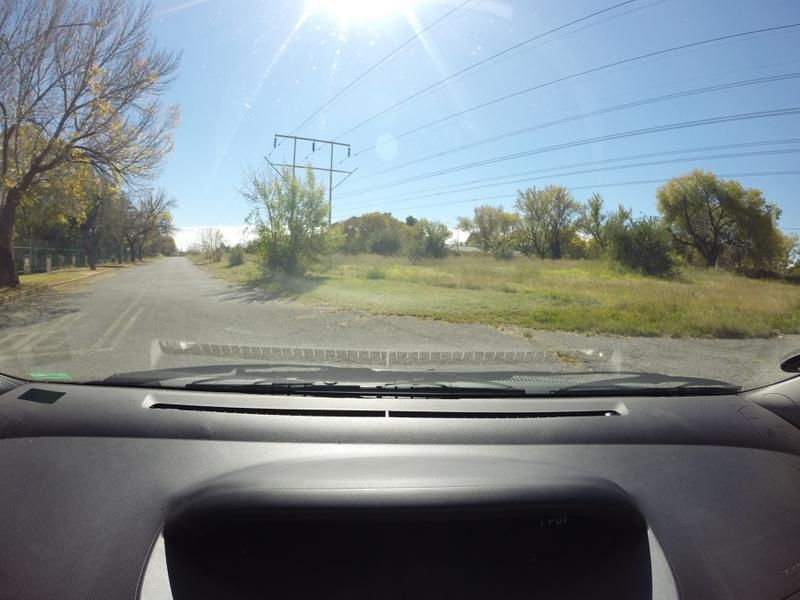pothole: (550, 347, 592, 372)
